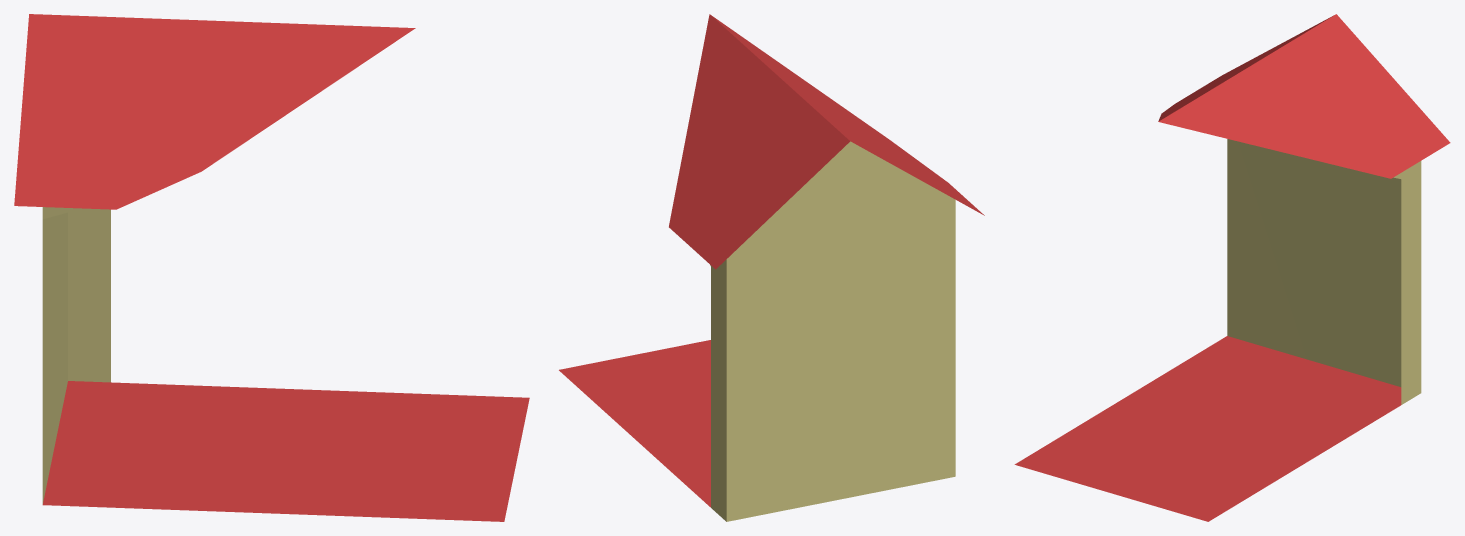
3 renders of one model, left to right at view 1: azimuth 30°, elevation 25°; view 2: azimuth 150°, elevation 25°; view 3: azimuth 270°, elevation 25°, orthographic. The views are drawn at different scales.
Size of the model in its own units: 11.13 by 10.34 by 8.97.
